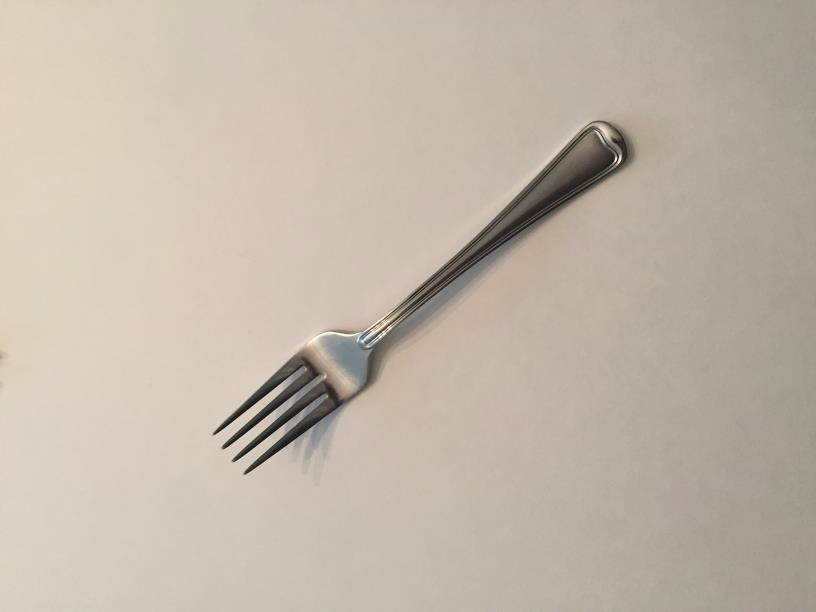fork: (201, 107, 647, 487)
